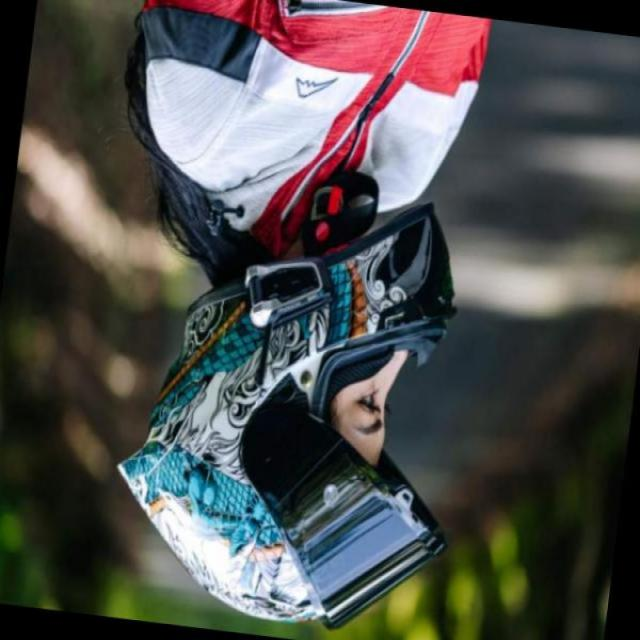Helmet: (110, 190, 469, 625)
